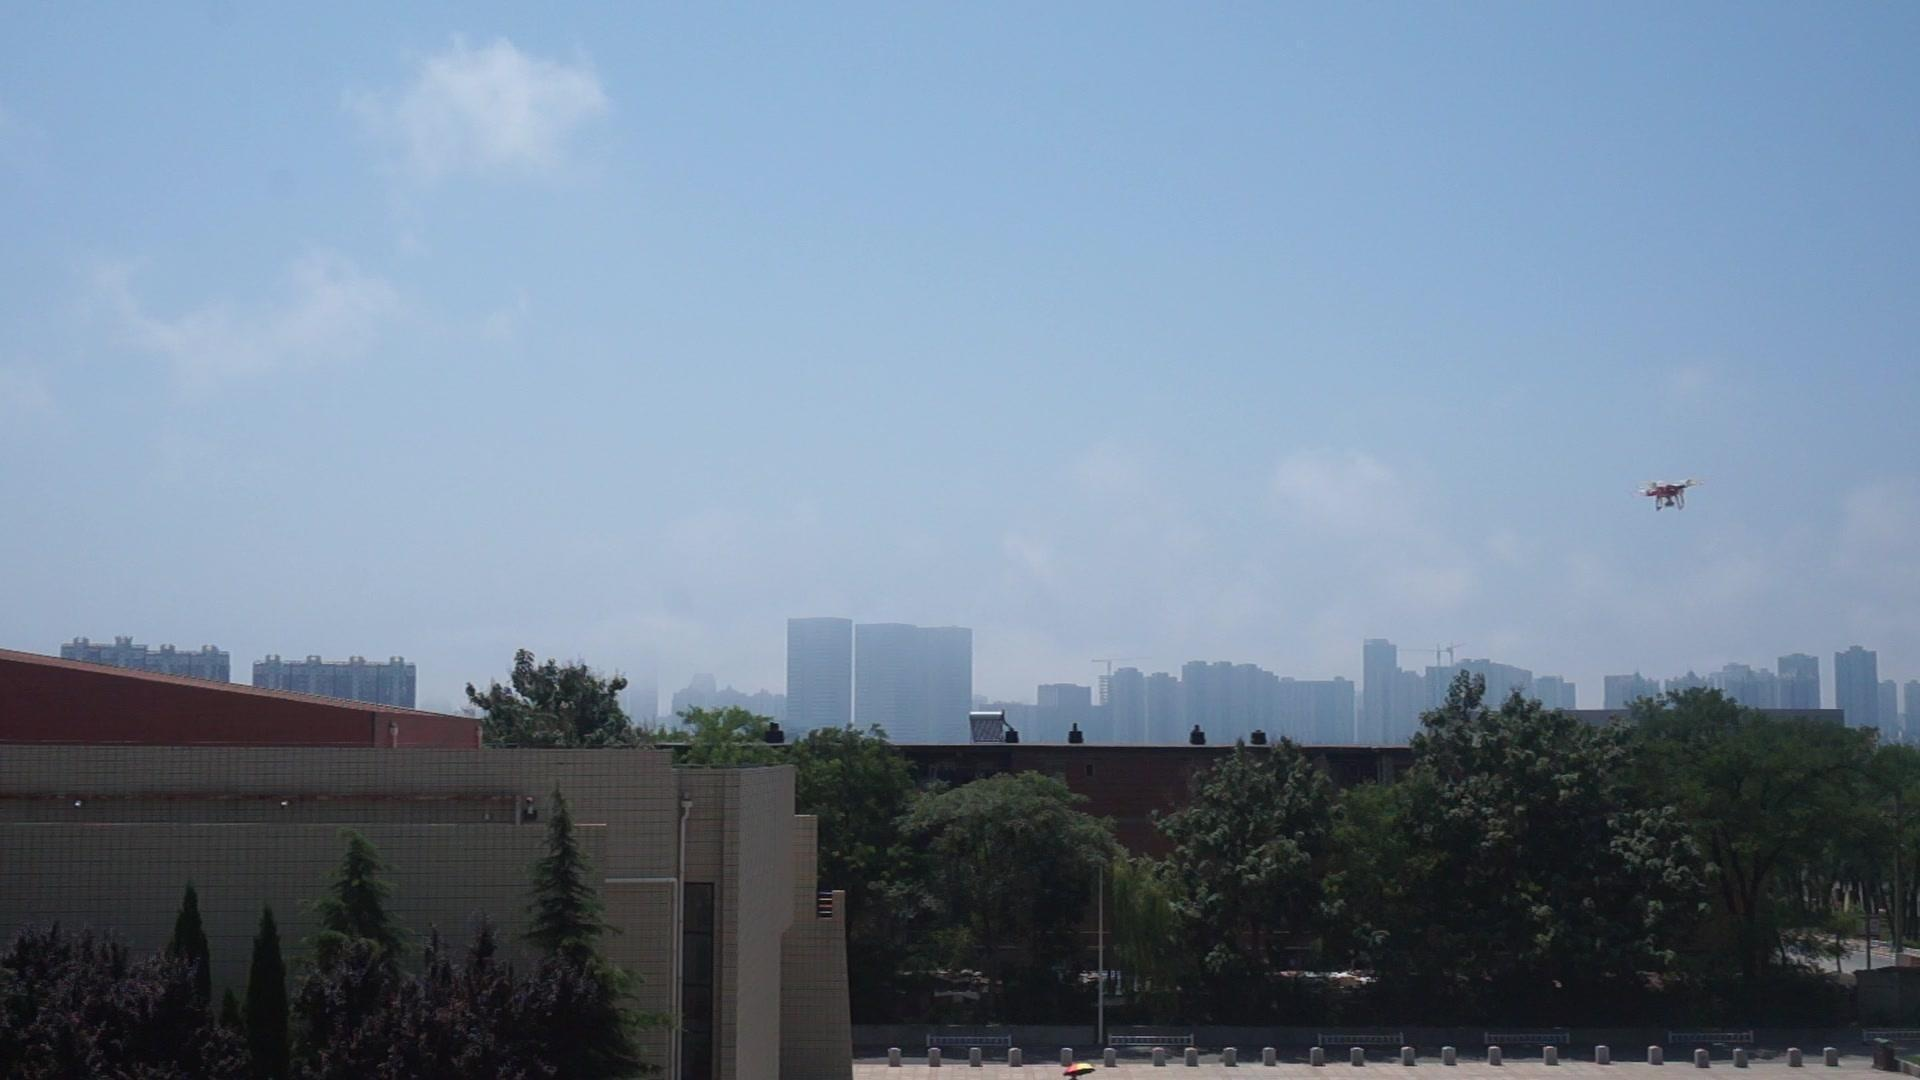UAV: (1633, 479, 1706, 512)
